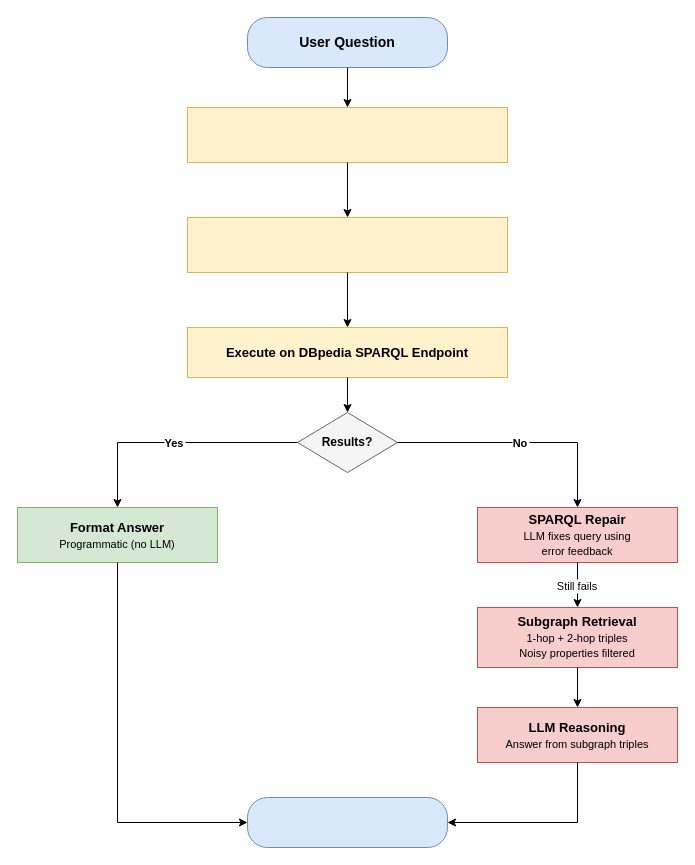
This 695x865 diagram has some shape labels left out. The centre of each missing label's shape, as x and y in pixels:
"Answer" belongs at (x=347, y=822).
"Entity Linking DBpedia Spotlight API" belongs at (x=347, y=134).
"SPARQL Generation LLM (few-shot prompting)" belongs at (x=347, y=244).
